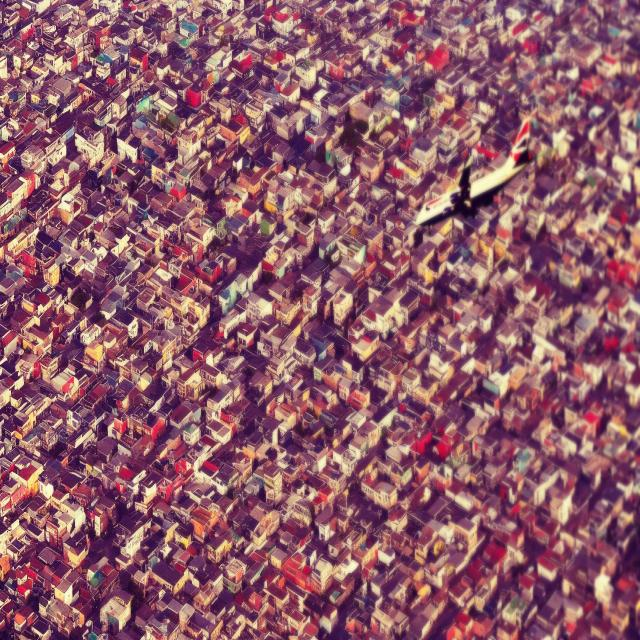airplane: (412, 112, 533, 231)
